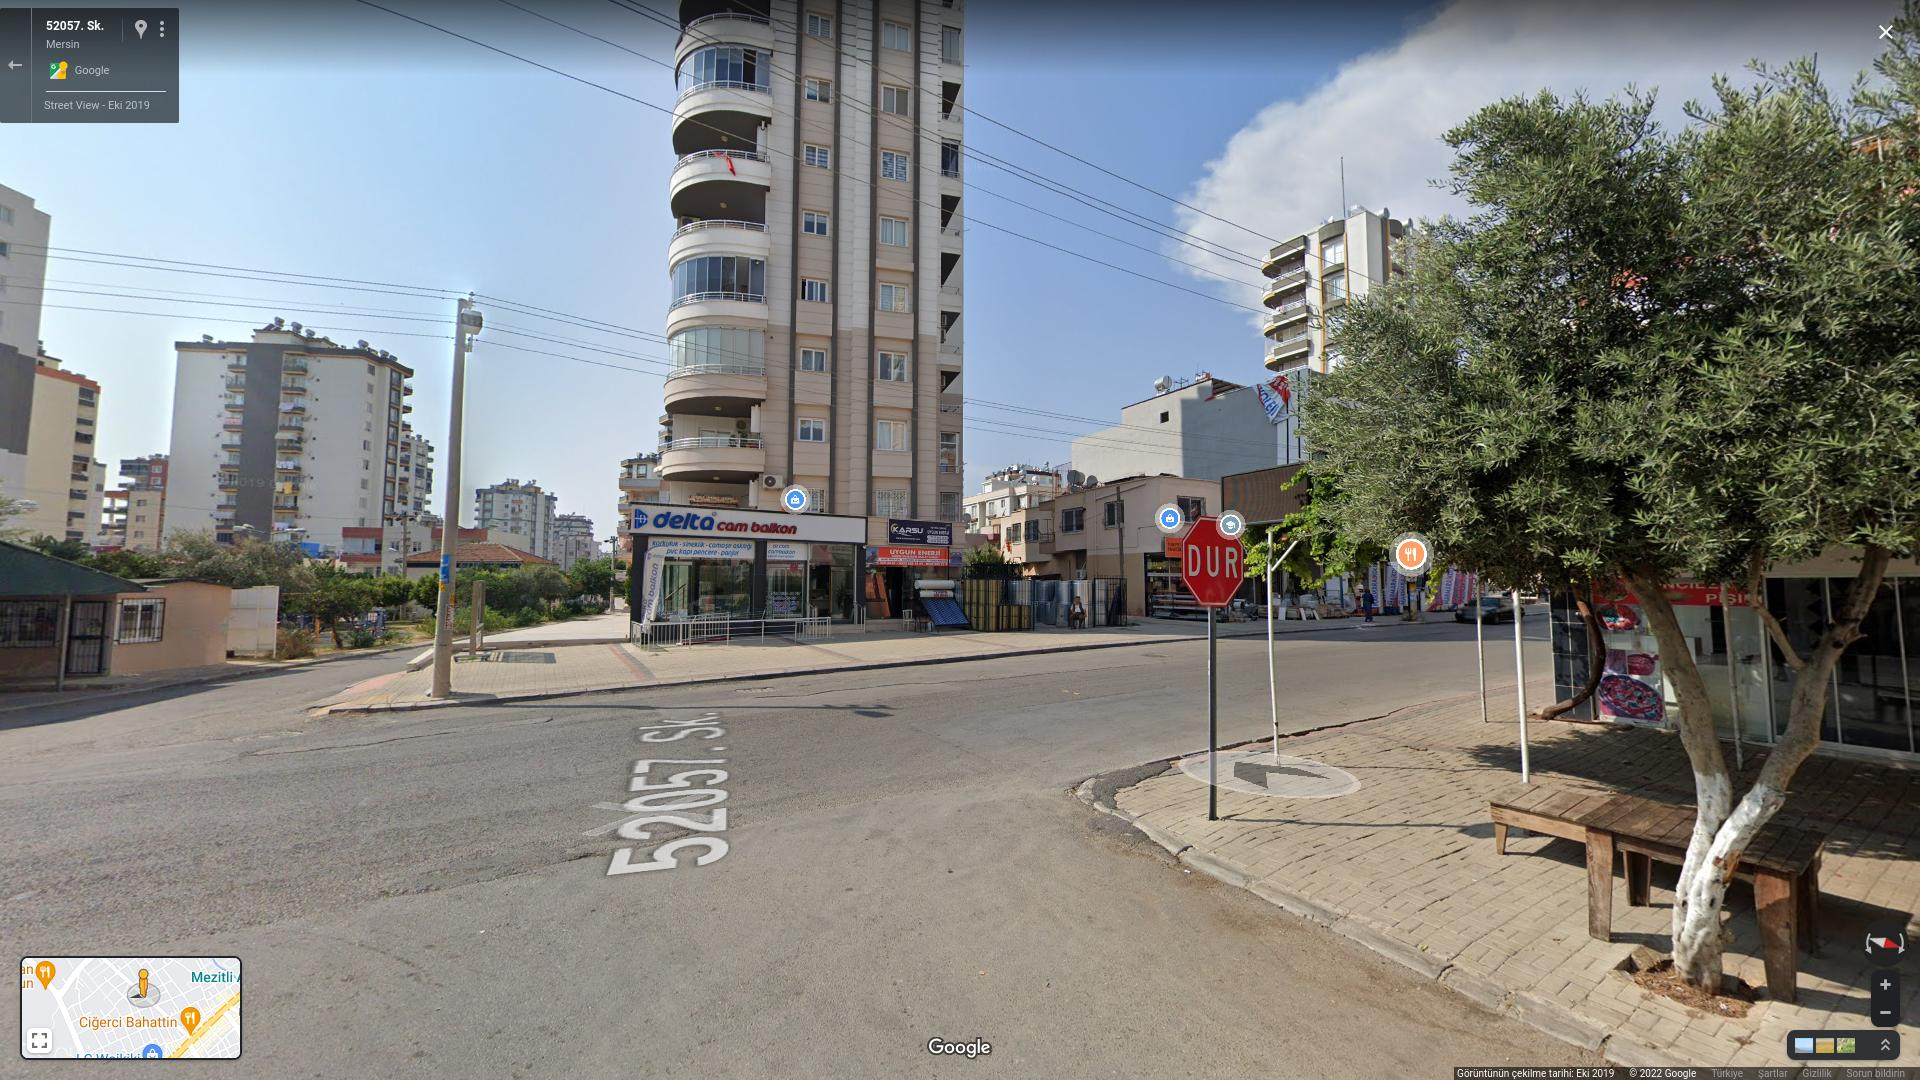stop: (1183, 517, 1245, 607)
